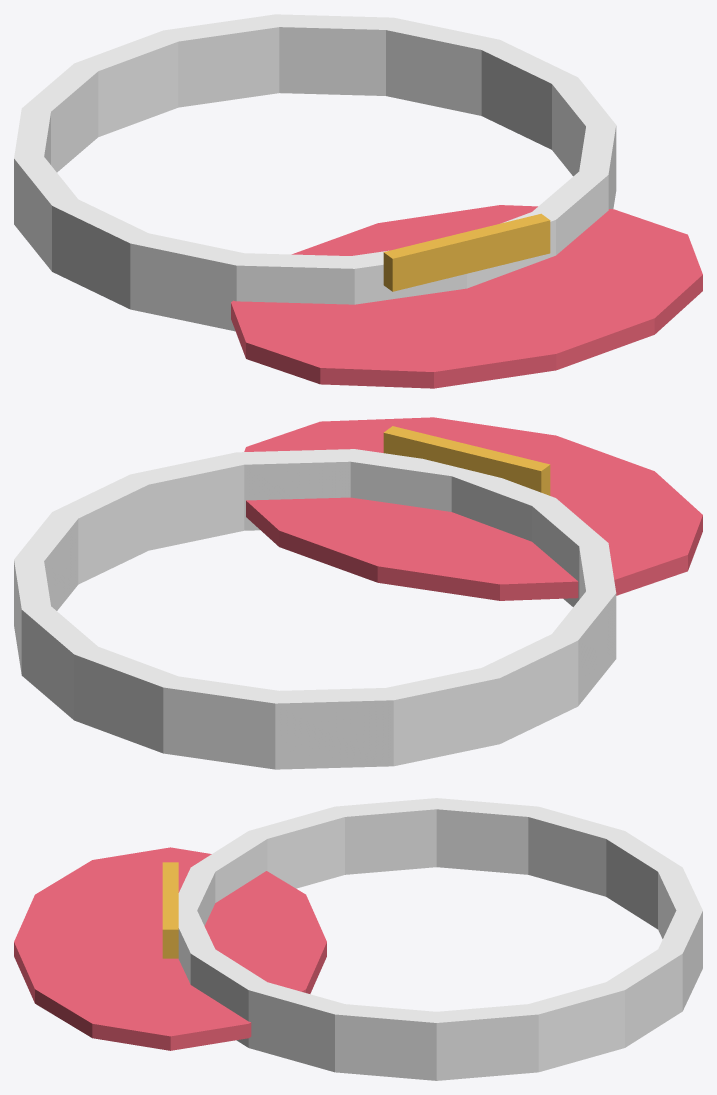
The model's file is CatCafe_Accessory_SunVisor.glb.
3 views of the same model, one above another, from view 1: azimuth 30°, elevation 25°; view 2: azimuth 150°, elevation 25°; view 3: azimuth 270°, elevation 25° (orthographic). The views are drawn at different scales.
Visible parts, largest first — view 1: CatCafe_Accessory_SunVisor; view 2: CatCafe_Accessory_SunVisor; view 3: CatCafe_Accessory_SunVisor.
Boxes of the visible parts, bbox=[...] form: CatCafe_Accessory_SunVisor: bbox=[14, 14, 702, 388]; CatCafe_Accessory_SunVisor: bbox=[14, 417, 702, 769]; CatCafe_Accessory_SunVisor: bbox=[14, 798, 702, 1080].
Size of the model in its own units: 1 by 0.15 by 1.29.
Materials: 1 (1 with a texture image).
